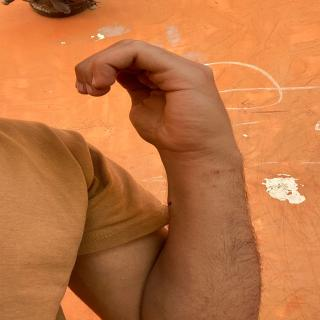HAA: (62, 38, 267, 180)
